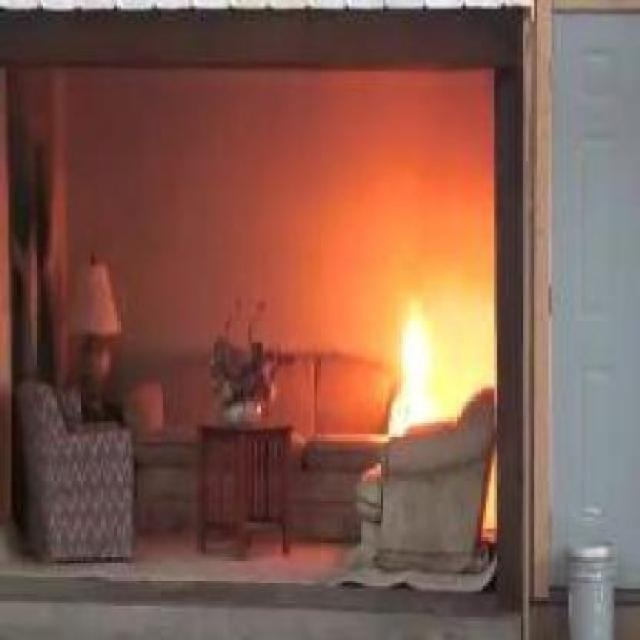fire: (375, 281, 450, 436)
